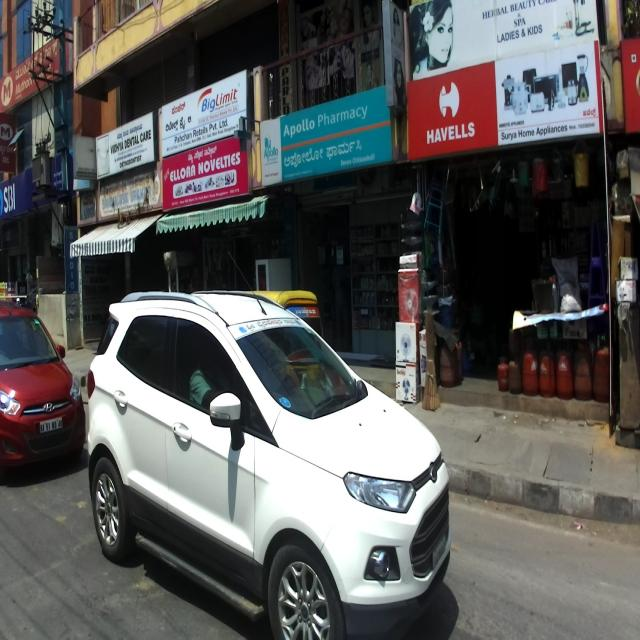car: (86, 250, 452, 638), (0, 298, 85, 481)
